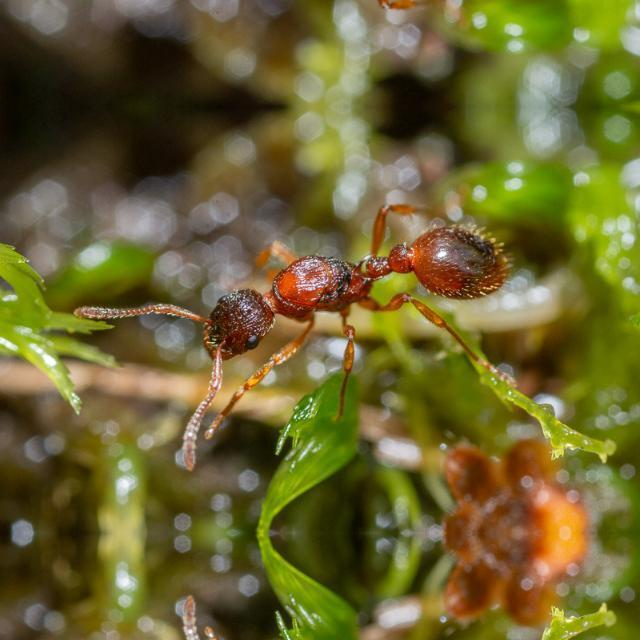Myrmica: (122, 133, 526, 417), (122, 0, 526, 78)
